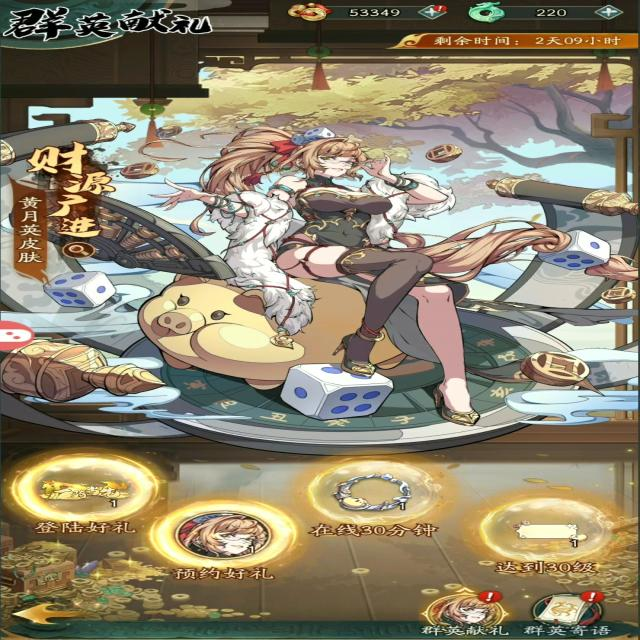hint-reddot: (474, 590, 506, 604), (581, 590, 606, 603), (430, 2, 446, 13)
operation-back: (12, 596, 112, 633)
operation-detail: (59, 239, 117, 259)
operation-qunyinggift1on: (34, 458, 154, 536)
operation-qunyinggift2on: (166, 510, 294, 582)
operation-qunyinggift3on: (304, 461, 439, 543)
operation-qunyinggift4on: (456, 476, 624, 578)
operation-qunyingjiyu: (513, 586, 620, 640)
operation-qunyingxianli: (401, 586, 510, 639)
